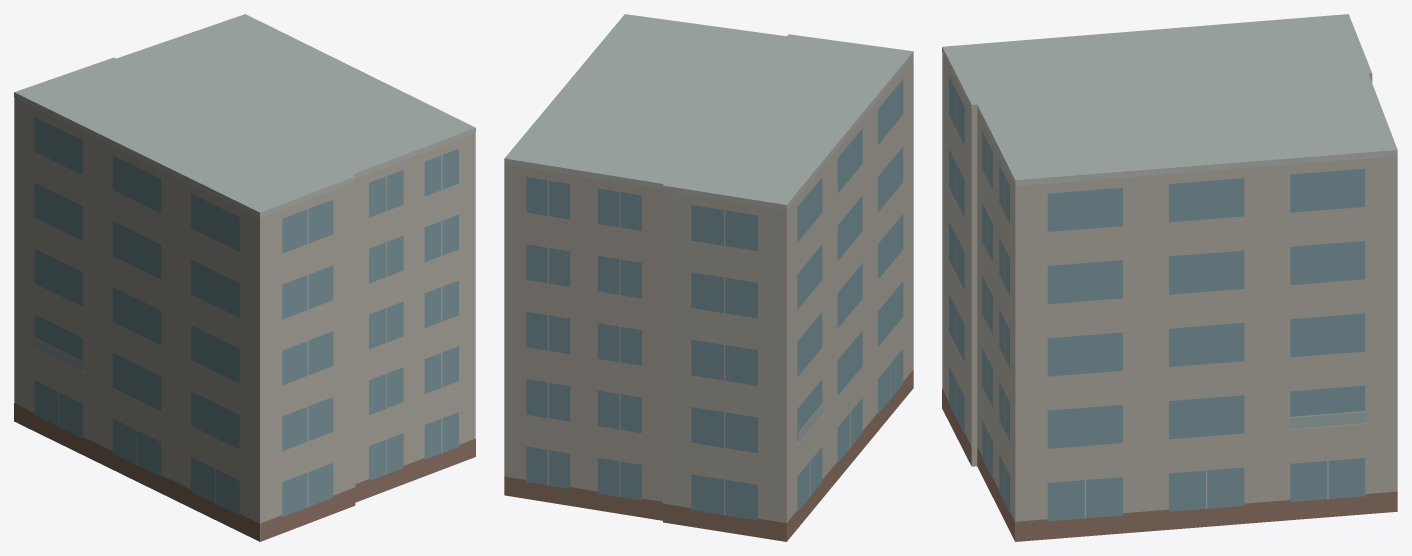
Rendered from survey-upis-32726842.glb.
3 renders of one model, left to right at view 1: azimuth 30°, elevation 25°; view 2: azimuth 150°, elevation 25°; view 3: azimuth 270°, elevation 25°, orthographic. The views are drawn at different scales.
Parts seen in each view (by area): view 1: survey-upis-32726842.tmp; view 2: survey-upis-32726842.tmp; view 3: survey-upis-32726842.tmp.
Boxes of the visible parts, x1=… form: survey-upis-32726842.tmp: x1=14, y1=14, x2=475, y2=541; survey-upis-32726842.tmp: x1=504, y1=14, x2=913, y2=541; survey-upis-32726842.tmp: x1=942, y1=14, x2=1397, y2=541.
Bounding box in the file's own units: 14.59 × 14.8 × 16.9.
